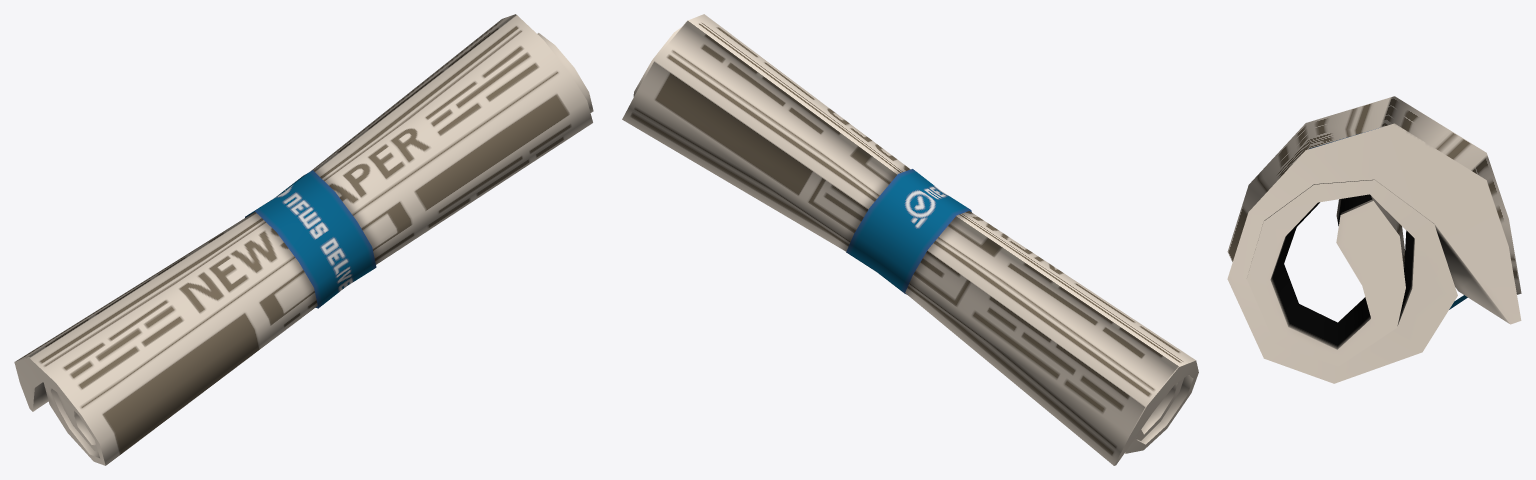
3 renders of one model, left to right at view 1: azimuth 30°, elevation 25°; view 2: azimuth 150°, elevation 25°; view 3: azimuth 270°, elevation 25°, orthographic. The views are drawn at different scales.
Visible parts, largest first — view 1: newspaper; view 2: newspaper; view 3: newspaper.
Boxes of the visible parts, <box> form: newspaper: <box>14,14,593,465</box>; newspaper: <box>622,14,1198,465</box>; newspaper: <box>1227,96,1521,383</box>.
Size of the model in its own units: 1.91 by 1.12 by 0.4509.
1 material, 1 textured.
